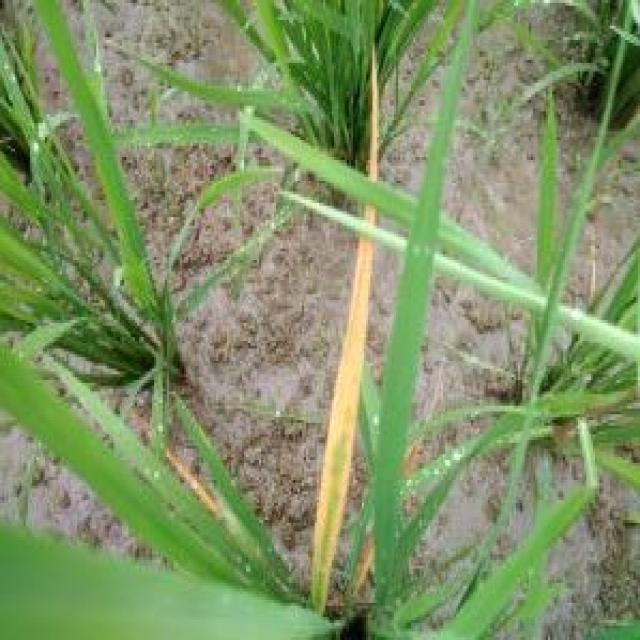Tungro: (317, 173, 378, 587)
